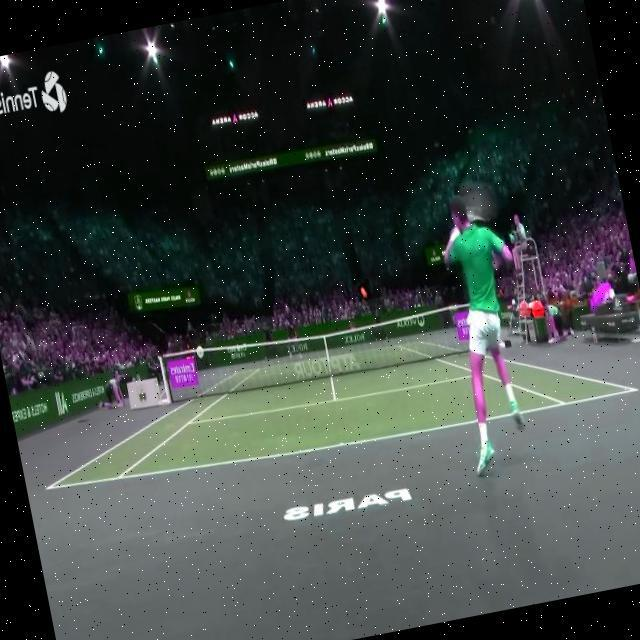court: (29, 296, 640, 507)
net: (156, 292, 494, 411)
player: (422, 184, 554, 478)
